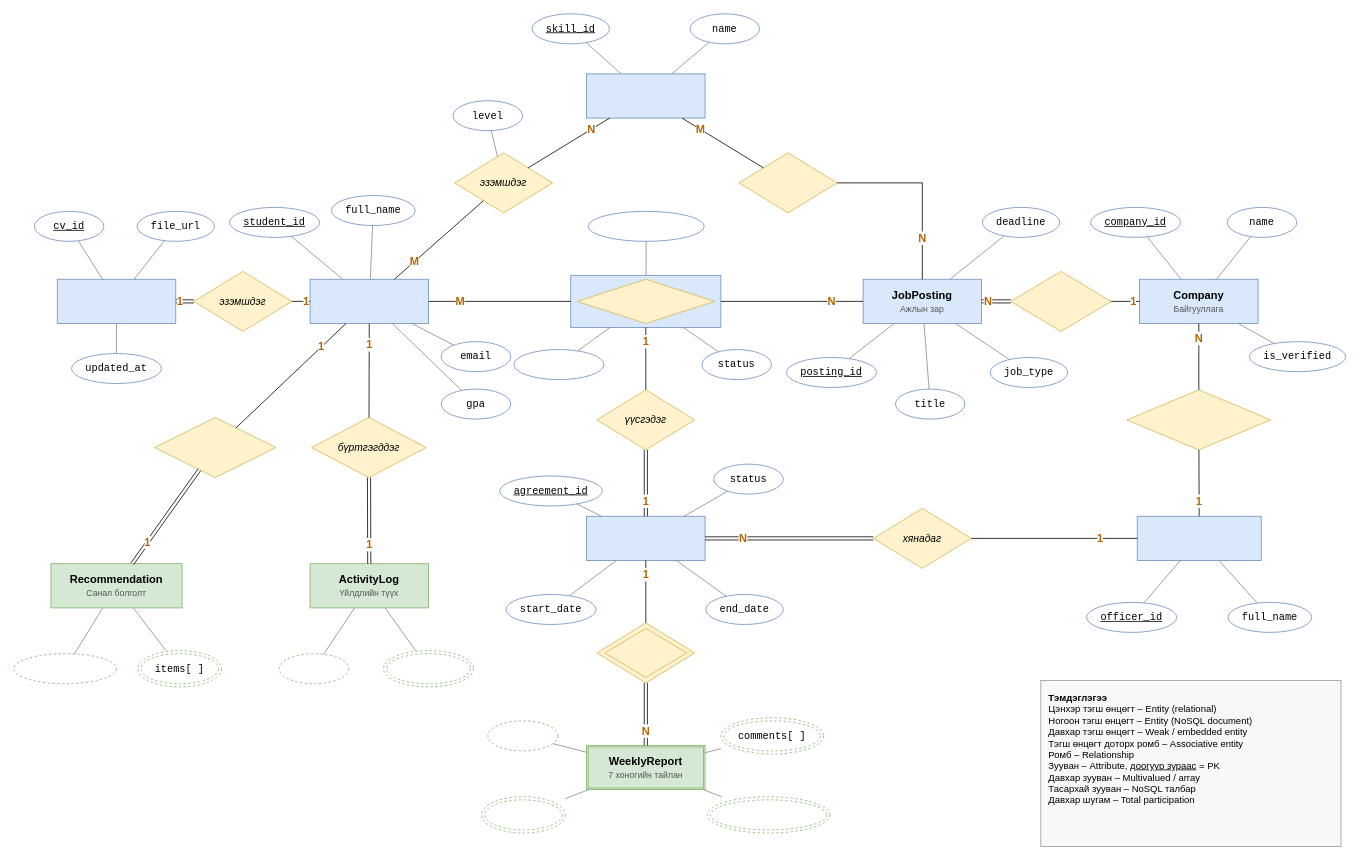
The diagram is 1360 pixels wide and 860 high, and some of its shapes have lost their labels. The shapes that lost their labels are listed below. From the top down, each one's centre as x and y in pixels, then its label:
the point at 645,95: Skill Ур чадвар
the point at 787,182: шаарддаг
the point at 645,226: application_id
the point at 116,301: CV Цахим CV
the point at 369,301: Student Оюутан
the point at 645,301: Application Хүсэлт
the point at 1060,301: нийтэлдэг
the point at 558,364: applied_at
the point at 1198,419: баталгаажуулдаг
the point at 215,447: хүлээн авдаг
the point at 645,538: Agreement Гурвалсан гэрээ
the point at 1198,538: CareerOfficer Карьерын алба
the point at 65,668: generated_at
the point at 313,668: _id
the point at 428,668: events[ ]
the point at 645,652: агуулдаг
the point at 522,735: week_no
the point at 523,814: tasks[ ]
the point at 768,814: attachments[ ]
